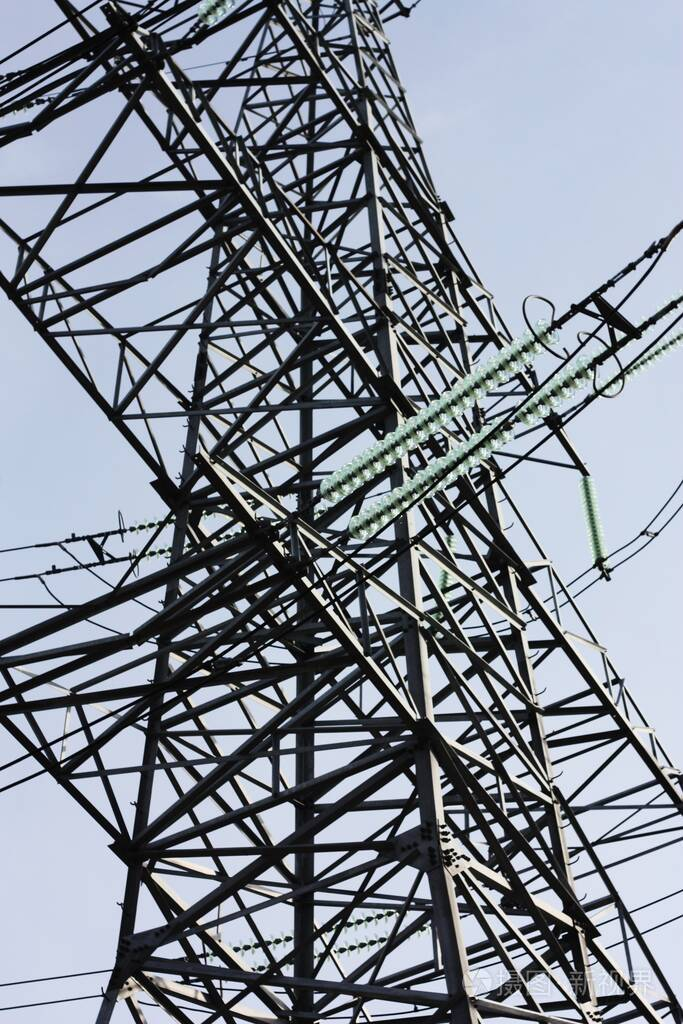insulator: (327, 309, 564, 498), (349, 356, 595, 536)
